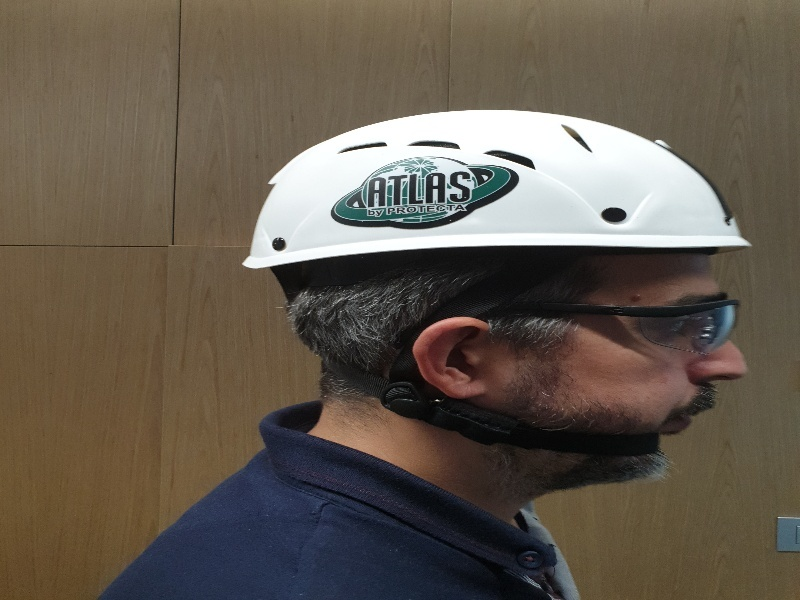Baret: (239, 110, 752, 282)
Gozluk: (447, 295, 749, 365)
